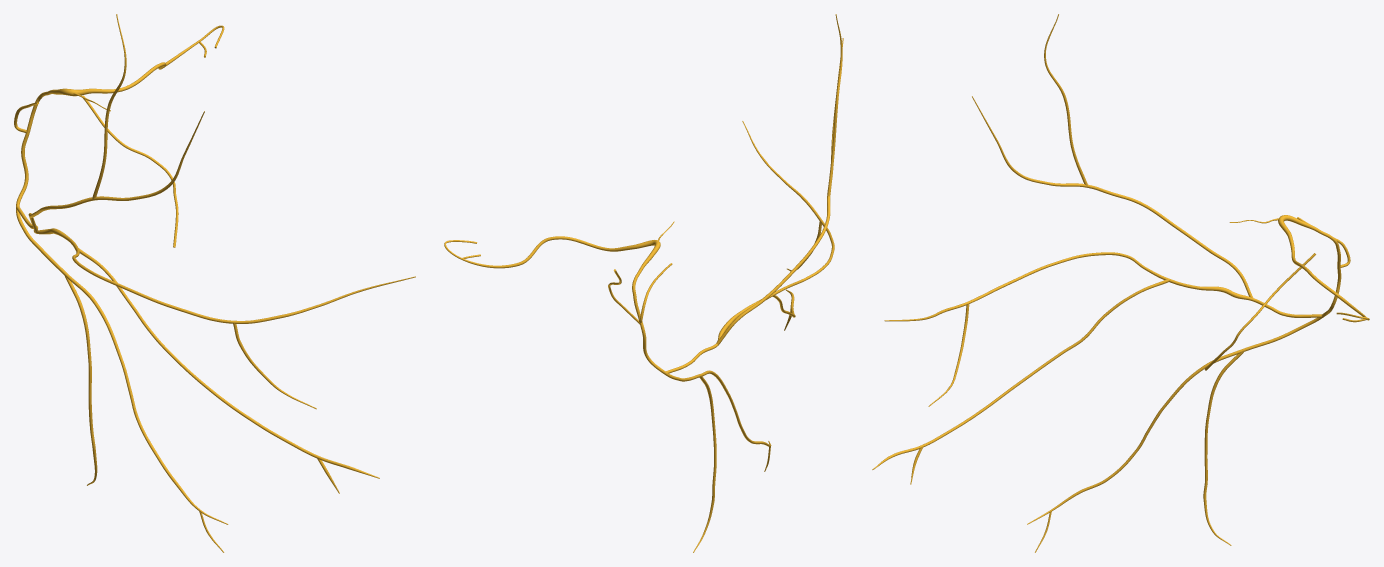
Rendered from nervoso-facial-nerve-vii-r.glb.
The picture shows the model from 3 angles, left to right: view 1: azimuth 30°, elevation 25°; view 2: azimuth 150°, elevation 25°; view 3: azimuth 270°, elevation 25°; orthographic projection. The views are drawn at different scales.
Visible parts, largest first — view 1: Facial nerve (VII).r, Chorda tympani.r; view 2: Facial nerve (VII).r; view 3: Facial nerve (VII).r.
Part boxes in pixels (x1,y1,x2,y2): Facial nerve (VII).r: [14, 14, 415, 552]; Chorda tympani.r: [83, 95, 178, 247]; Facial nerve (VII).r: [444, 14, 843, 552]; Facial nerve (VII).r: [872, 14, 1369, 552].
Size of the model in its own units: 0.0654 by 0.1161 by 0.1042.
